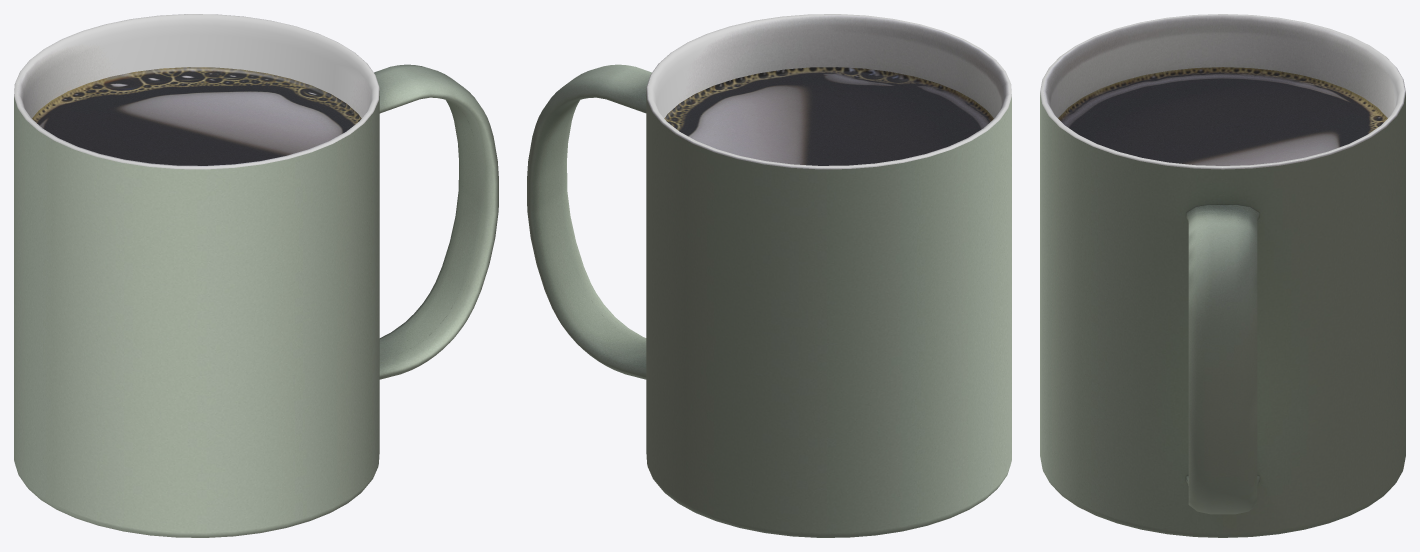
Rendered from near.glb.
The picture shows the model from 3 angles, left to right: view 1: azimuth 30°, elevation 25°; view 2: azimuth 150°, elevation 25°; view 3: azimuth 270°, elevation 25°; orthographic projection.
Visible parts, largest first — view 1: coffee1; view 2: coffee1; view 3: coffee1.
Boxes of the visible parts, x1,y1,x2,y2 form: coffee1: (14, 14, 498, 537); coffee1: (527, 14, 1011, 537); coffee1: (1040, 14, 1405, 537).
Size of the model in its own units: 1.7 by 1.35 by 1.2.
1 material, 1 textured.
